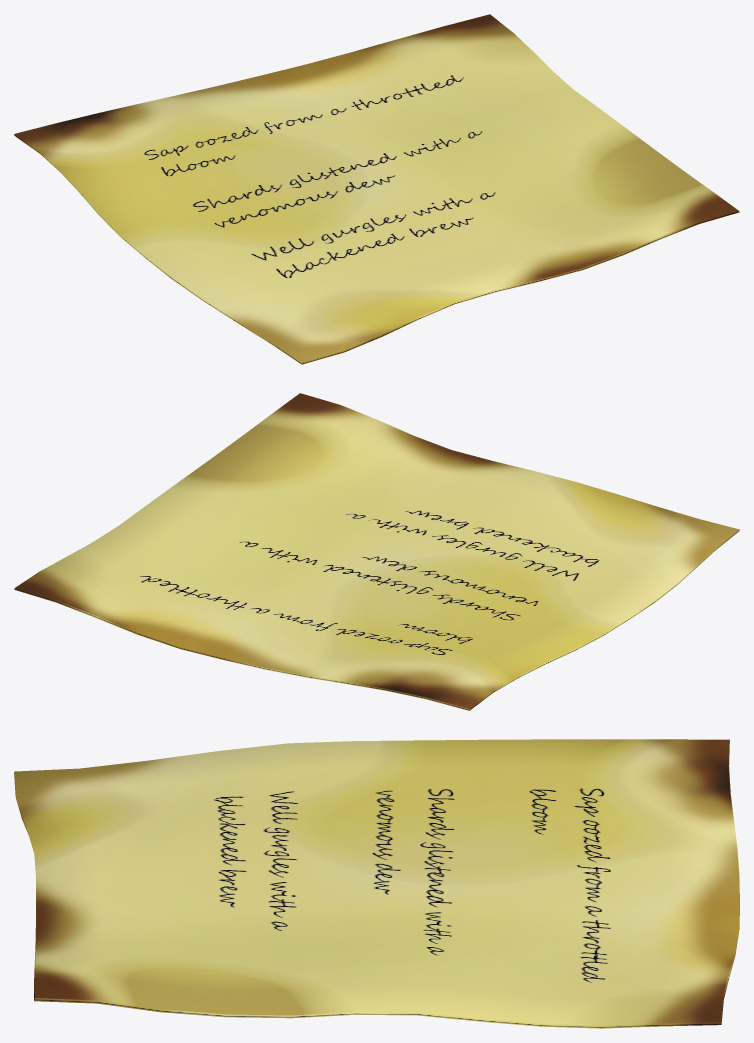
Rendered from Paper6.glb.
3 renders of one model, top to bottom at view 1: azimuth 30°, elevation 25°; view 2: azimuth 150°, elevation 25°; view 3: azimuth 270°, elevation 25°, orthographic. The views are drawn at different scales.
Visible parts, largest first — view 1: Plane; view 2: Plane; view 3: Plane.
Boxes of the visible parts, box(x1,y1,x2,y2) form: Plane: box(14, 14, 739, 364); Plane: box(14, 393, 739, 710); Plane: box(14, 739, 739, 1028).
Bounding box in the file's own units: 0.8607 × 0.0672 × 0.8722.
1 material, 1 textured.
